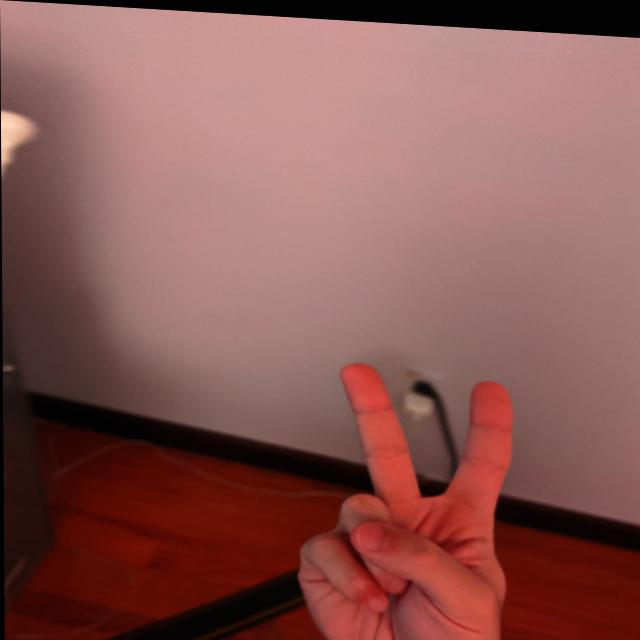V: (286, 350, 523, 639)
